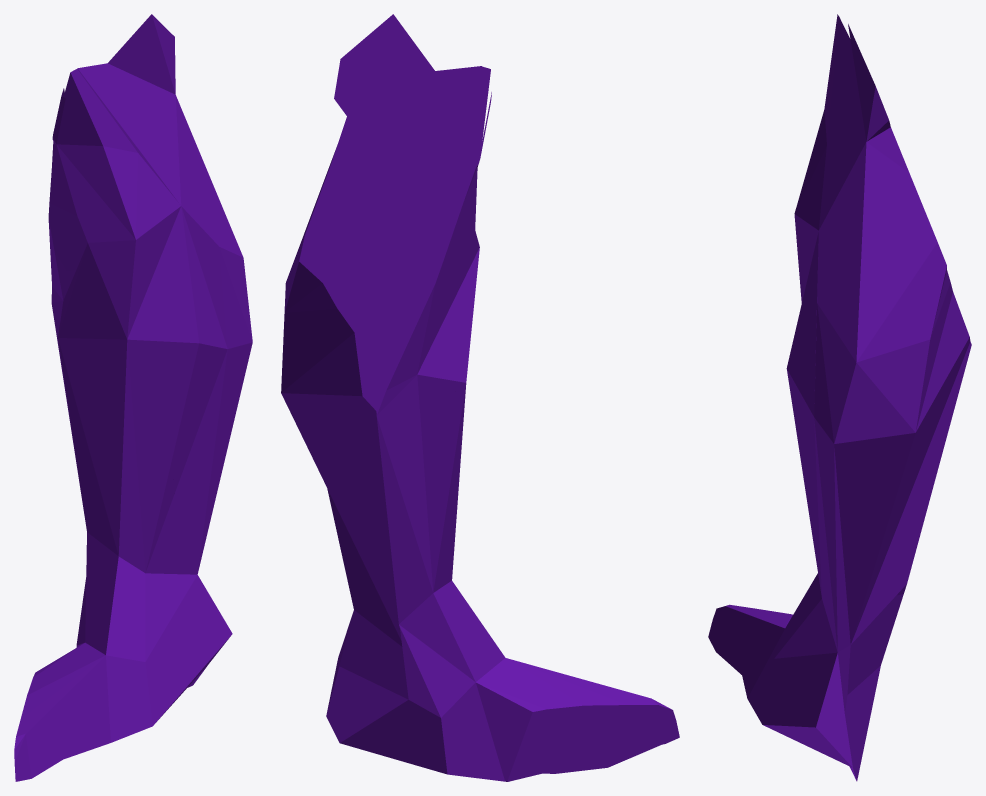
Rendered from TheMan_8_chunks.fbx.
3 renders of one model, left to right at view 1: azimuth 30°, elevation 25°; view 2: azimuth 150°, elevation 25°; view 3: azimuth 270°, elevation 25°, orthographic. The views are drawn at different scales.
Visible parts, largest first — view 1: TheMan_8_1, TheMan_8_5, TheMan_8_6, TheMan_8_3, TheMan_8_2, TheMan_8_0, TheMan_8_4; view 2: TheMan_8_1, TheMan_8_2, TheMan_8_3, TheMan_8_6, TheMan_8_4, TheMan_8_0, TheMan_8_5; view 3: TheMan_8_2, TheMan_8_6, TheMan_8_1, TheMan_8_5, TheMan_8_4, TheMan_8_3.
Part boxes in pixels (x1,y1,x2,y2): TheMan_8_1: (14,435,232,781); TheMan_8_5: (58,235,247,441); TheMan_8_6: (110,14,244,270); TheMan_8_3: (48,60,138,276); TheMan_8_2: (51,289,252,562); TheMan_8_0: (51,265,96,448); TheMan_8_4: (49,237,67,306); TheMan_8_1: (326,483,679,781); TheMan_8_2: (281,291,457,635); TheMan_8_3: (374,66,491,325); TheMan_8_6: (285,14,432,287); TheMan_8_4: (285,225,435,386); TheMan_8_0: (384,356,464,498); TheMan_8_5: (422,295,474,398); TheMan_8_2: (800,298,971,641); TheMan_8_6: (797,24,933,375); TheMan_8_1: (708,487,903,781); TheMan_8_5: (786,213,863,456); TheMan_8_4: (861,233,955,380); TheMan_8_3: (795,14,852,213).
Size of the model in its own units: 401 by 892 by 288.
